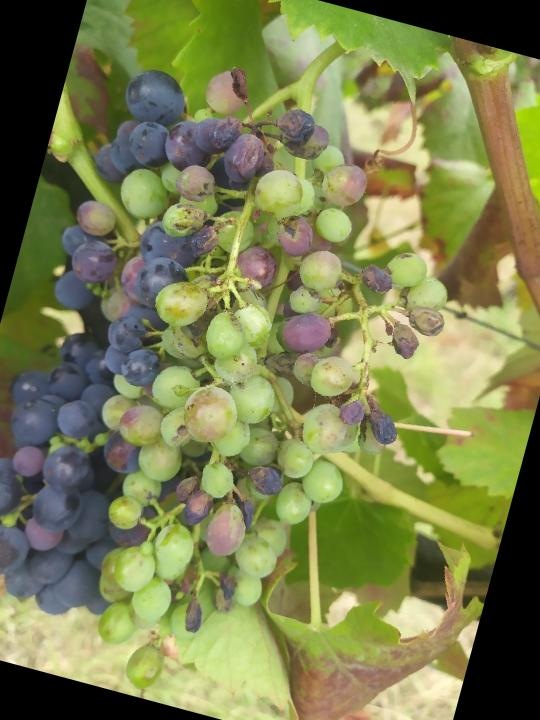grape: (0, 35, 494, 720)
